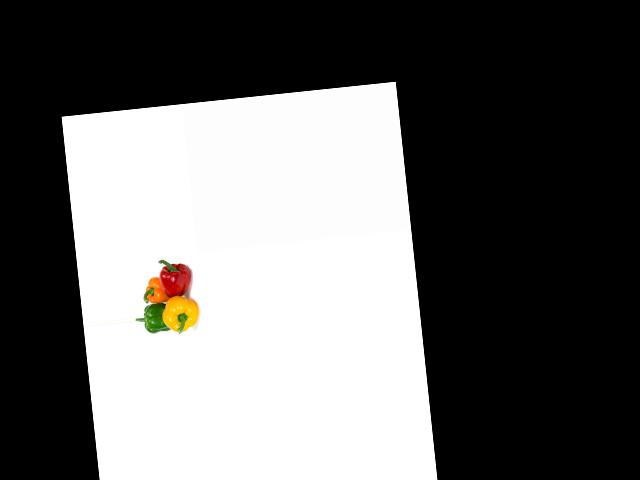bell_pepper: (160, 292, 202, 337)
